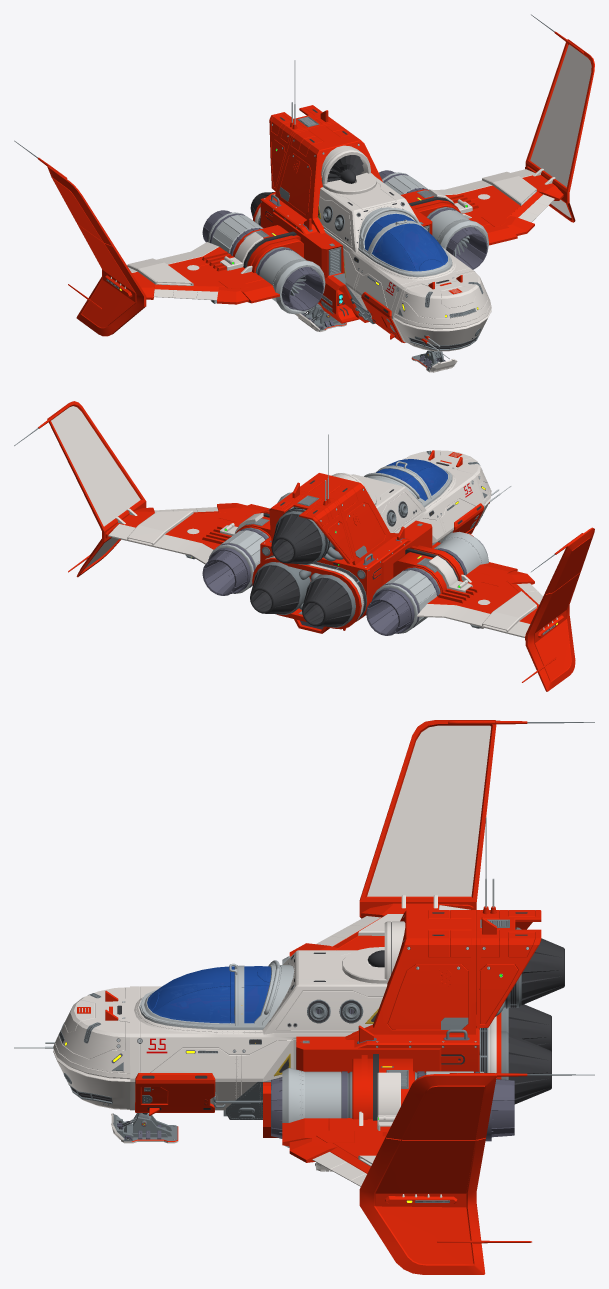
File: radiant-pillar-detail.glb
3 renders of one model, top to bottom at view 1: azimuth 30°, elevation 25°; view 2: azimuth 150°, elevation 25°; view 3: azimuth 270°, elevation 25°, orthographic. The views are drawn at different scales.
Visible parts, largest first — view 1: radiant-pillar; view 2: radiant-pillar; view 3: radiant-pillar.
Part boxes in pixels (x1,y1,x2,y2): radiant-pillar: [14, 14, 594, 372]; radiant-pillar: [14, 401, 594, 691]; radiant-pillar: [14, 720, 594, 1274].
Size of the model in its own units: 48 by 19.24 by 33.15.
